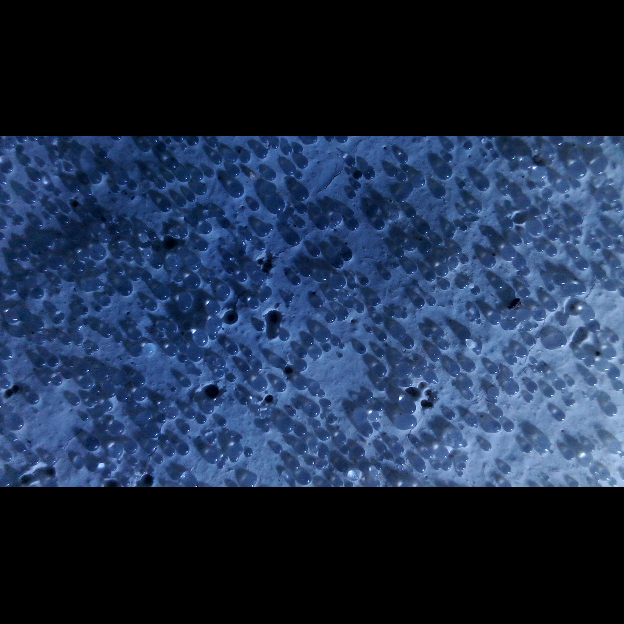GrassBeadSeg: (267, 197, 285, 214), (175, 293, 193, 310), (566, 298, 584, 315), (547, 331, 565, 348), (313, 265, 330, 282), (165, 254, 182, 271), (534, 436, 551, 453), (134, 409, 151, 426), (186, 346, 204, 362), (192, 330, 209, 346), (447, 431, 463, 447), (331, 274, 346, 289), (437, 164, 452, 179), (279, 418, 294, 433), (607, 439, 622, 454), (581, 307, 596, 322), (294, 187, 309, 201), (186, 255, 201, 269), (481, 254, 496, 268), (500, 246, 515, 260), (527, 221, 542, 235), (518, 157, 533, 171), (556, 180, 571, 194), (533, 166, 547, 181), (591, 160, 605, 175), (602, 346, 617, 360), (577, 452, 592, 466), (402, 415, 417, 429), (434, 446, 449, 460), (373, 364, 388, 378), (397, 362, 412, 376), (316, 328, 331, 342), (346, 468, 361, 482), (253, 377, 268, 391), (306, 402, 320, 417), (298, 470, 312, 485), (427, 348, 442, 362), (308, 345, 323, 359), (294, 376, 309, 390), (461, 358, 476, 372), (186, 274, 201, 288), (252, 270, 267, 284), (215, 285, 230, 299), (155, 286, 170, 300), (91, 246, 106, 260), (118, 282, 133, 296), (242, 473, 257, 487), (286, 232, 300, 246), (315, 216, 329, 230), (230, 184, 244, 198), (198, 221, 212, 235), (411, 174, 425, 188), (476, 177, 490, 191), (505, 381, 519, 395), (486, 386, 500, 400), (391, 326, 405, 340), (402, 400, 416, 414), (255, 223, 269, 237), (206, 301, 220, 315), (208, 317, 222, 331), (50, 256, 64, 270), (181, 471, 195, 485), (572, 163, 586, 177), (72, 455, 85, 469), (142, 343, 155, 356), (133, 374, 146, 387), (166, 406, 179, 419), (177, 442, 190, 455), (52, 311, 65, 324), (264, 168, 277, 181), (147, 425, 160, 438), (125, 441, 138, 454), (87, 438, 100, 451), (111, 422, 124, 435), (110, 444, 123, 457), (93, 458, 106, 471), (11, 417, 24, 430), (104, 385, 117, 398), (14, 325, 27, 338), (202, 401, 214, 415), (134, 388, 146, 401), (27, 392, 40, 404), (144, 441, 157, 453), (47, 355, 60, 367), (7, 311, 20, 323), (32, 287, 45, 299), (5, 283, 18, 295), (73, 262, 86, 274), (24, 192, 37, 204), (89, 172, 102, 184), (159, 200, 172, 212), (195, 183, 208, 195), (165, 158, 178, 170), (228, 165, 241, 177), (283, 163, 296, 175), (255, 146, 268, 158), (225, 151, 238, 163), (296, 157, 309, 169), (534, 308, 546, 321), (605, 404, 617, 417), (80, 376, 93, 388), (0, 348, 13, 360), (32, 319, 45, 331), (100, 325, 113, 337), (129, 345, 142, 357), (204, 431, 217, 443), (1, 161, 14, 173), (347, 219, 359, 231), (373, 218, 385, 230), (331, 257, 343, 269), (341, 249, 353, 261), (418, 223, 430, 235), (405, 207, 417, 219), (469, 201, 481, 213), (519, 197, 531, 209), (514, 258, 526, 270), (597, 360, 609, 372), (599, 469, 611, 481), (436, 264, 448, 276), (405, 262, 417, 274), (4, 137, 16, 149), (420, 241, 431, 253), (405, 239, 416, 251), (434, 187, 445, 199), (609, 367, 620, 379), (554, 379, 565, 391), (415, 461, 426, 473), (354, 446, 365, 458), (462, 378, 473, 390), (100, 232, 112, 243), (151, 258, 163, 269), (146, 300, 158, 311), (192, 170, 204, 181), (211, 153, 223, 164), (178, 171, 190, 182), (129, 270, 141, 281), (141, 271, 153, 282), (197, 240, 209, 251), (61, 334, 73, 345), (251, 362, 263, 373), (279, 330, 291, 341), (312, 297, 324, 308), (326, 290, 338, 301), (248, 299, 260, 310), (331, 213, 342, 224), (78, 250, 89, 261), (20, 250, 31, 261), (91, 279, 102, 290), (118, 173, 129, 184), (113, 265, 124, 276), (131, 329, 142, 340), (167, 345, 178, 356), (228, 343, 239, 354), (104, 414, 115, 425), (167, 323, 178, 334), (296, 360, 307, 371), (325, 312, 336, 323), (236, 272, 247, 283), (255, 241, 266, 252), (310, 246, 321, 257), (290, 275, 301, 286), (249, 200, 260, 211), (414, 297, 425, 308), (451, 244, 462, 255), (556, 275, 567, 286), (188, 136, 199, 147), (208, 136, 219, 147), (393, 444, 403, 456), (368, 410, 378, 422), (362, 425, 372, 437), (319, 429, 329, 441), (434, 328, 444, 340), (141, 248, 153, 258), (240, 291, 252, 301), (281, 145, 293, 155), (239, 152, 251, 162), (139, 141, 151, 151), (613, 380, 623, 391), (336, 433, 346, 444), (492, 409, 503, 419), (422, 450, 433, 460), (310, 420, 321, 430), (285, 436, 296, 446), (180, 424, 191, 434), (128, 456, 139, 466), (275, 382, 286, 392), (338, 309, 349, 319), (302, 267, 313, 277), (293, 143, 303, 154), (365, 169, 375, 180), (387, 166, 397, 177), (440, 279, 450, 290), (433, 234, 443, 245), (449, 257, 459, 268), (394, 248, 404, 259), (377, 331, 387, 342), (374, 314, 384, 325), (359, 275, 369, 286), (382, 270, 392, 281), (547, 299, 557, 310), (526, 336, 536, 347), (512, 235, 522, 246), (569, 248, 579, 259), (578, 260, 589, 270), (560, 233, 571, 243), (572, 227, 582, 238), (543, 218, 553, 229), (543, 188, 553, 199), (503, 219, 513, 230), (610, 333, 620, 344), (585, 356, 595, 367), (577, 350, 587, 361), (587, 376, 597, 387), (413, 367, 423, 378), (377, 380, 387, 391), (297, 347, 307, 358), (449, 364, 459, 375), (613, 226, 623, 237), (591, 241, 602, 251), (597, 270, 607, 281), (576, 284, 586, 295), (613, 201, 623, 212), (571, 179, 581, 190), (602, 238, 612, 249), (590, 321, 600, 332), (102, 401, 113, 411), (34, 358, 45, 368), (0, 379, 11, 389), (181, 378, 192, 388), (42, 240, 53, 250), (16, 238, 27, 248), (31, 172, 42, 182), (21, 157, 32, 167), (48, 205, 59, 215), (70, 183, 81, 193), (109, 225, 120, 235), (157, 399, 168, 409), (527, 383, 537, 393), (504, 421, 514, 431), (564, 450, 574, 460), (374, 401, 384, 411), (319, 449, 329, 459), (306, 456, 316, 466), (273, 444, 283, 454), (296, 427, 306, 437), (233, 444, 243, 454), (165, 447, 175, 457), (353, 170, 363, 180), (346, 156, 356, 166), (398, 153, 408, 163), (425, 271, 435, 281), (457, 278, 467, 288), (520, 288, 530, 298), (404, 338, 414, 348), (375, 347, 385, 357), (356, 344, 366, 354), (371, 295, 381, 305), (355, 303, 365, 313), (493, 279, 503, 289), (490, 314, 500, 324), (535, 240, 545, 250), (547, 246, 557, 256), (572, 215, 582, 225), (549, 230, 559, 240), (538, 362, 548, 372), (304, 335, 314, 345), (425, 372, 435, 382), (612, 259, 622, 269), (606, 281, 616, 291), (29, 455, 39, 465), (2, 451, 12, 461), (70, 396, 80, 406), (119, 392, 129, 402), (92, 386, 102, 396), (73, 337, 83, 347), (254, 321, 264, 331), (276, 359, 286, 369), (85, 397, 95, 407), (101, 296, 111, 306), (14, 216, 24, 226), (59, 215, 69, 225), (79, 207, 89, 217), (62, 204, 72, 214), (38, 263, 48, 273), (20, 271, 30, 281), (156, 179, 166, 189), (441, 461, 452, 470), (376, 444, 387, 453), (340, 446, 351, 455), (297, 445, 308, 454), (289, 461, 300, 470), (196, 415, 207, 424), (52, 376, 63, 385), (16, 443, 27, 452), (40, 377, 51, 386), (98, 425, 109, 434), (127, 401, 138, 410), (156, 414, 167, 423), (185, 409, 196, 418), (208, 331, 219, 340), (33, 219, 44, 228), (8, 254, 19, 263), (86, 196, 97, 205), (113, 250, 124, 259), (203, 273, 214, 282), (519, 347, 528, 357), (490, 364, 499, 374), (465, 391, 474, 401), (419, 358, 428, 368), (424, 328, 433, 338), (483, 441, 492, 451), (524, 443, 533, 453), (555, 412, 565, 421), (544, 388, 554, 397), (490, 423, 500, 432), (467, 417, 477, 426), (209, 454, 219, 463), (46, 456, 56, 465), (7, 434, 17, 443), (63, 369, 73, 378), (216, 359, 226, 368), (80, 365, 90, 374), (100, 372, 110, 381), (78, 306, 88, 315), (52, 277, 62, 286), (0, 194, 10, 203), (176, 197, 186, 206), (178, 228, 188, 237), (126, 251, 136, 260), (440, 341, 449, 350), (502, 465, 511, 474), (244, 448, 253, 457), (524, 394, 533, 403), (566, 378, 575, 387), (602, 394, 611, 403), (524, 322, 533, 331), (559, 318, 568, 327), (566, 398, 575, 407), (609, 478, 618, 487), (587, 443, 596, 452), (504, 370, 513, 379), (282, 471, 291, 480), (447, 410, 455, 420), (229, 454, 239, 462), (217, 418, 227, 426), (509, 356, 517, 365), (460, 454, 469, 462), (294, 401, 303, 409), (323, 399, 332, 407), (341, 290, 349, 298), (591, 466, 599, 474), (373, 423, 381, 431), (327, 415, 335, 423), (365, 392, 373, 400), (359, 399, 367, 407), (522, 268, 530, 276), (188, 194, 196, 202), (218, 210, 226, 218), (246, 233, 254, 241), (346, 209, 354, 217), (103, 470, 111, 478), (472, 286, 479, 295), (432, 463, 441, 470), (404, 379, 413, 386), (396, 458, 405, 465), (428, 298, 435, 306), (401, 311, 408, 319), (388, 310, 395, 318), (457, 307, 464, 315), (458, 463, 466, 470), (411, 437, 419, 444), (288, 409, 296, 416), (228, 375, 236, 382), (216, 370, 224, 377), (245, 350, 253, 357), (179, 355, 187, 362), (323, 344, 330, 352), (332, 338, 340, 345), (311, 442, 319, 449), (460, 224, 467, 232), (523, 238, 531, 245), (158, 323, 165, 331), (137, 259, 145, 266), (167, 175, 175, 182), (130, 183, 138, 190), (113, 186, 120, 194), (417, 343, 425, 350), (225, 254, 233, 261), (206, 171, 214, 178), (65, 165, 73, 172), (38, 160, 46, 167), (101, 167, 109, 174), (31, 184, 39, 191), (151, 136, 159, 143), (150, 175, 158, 182), (271, 142, 279, 149), (295, 172, 303, 179), (312, 207, 320, 214), (297, 221, 305, 228), (349, 282, 357, 289), (226, 266, 234, 273), (318, 391, 325, 398), (378, 455, 385, 462), (241, 398, 248, 405), (221, 455, 228, 462), (110, 463, 117, 470), (123, 480, 130, 487), (242, 365, 249, 372), (246, 394, 253, 401), (317, 462, 324, 469), (285, 296, 292, 303), (461, 257, 468, 264), (446, 233, 453, 240), (448, 226, 455, 233), (175, 274, 182, 281), (157, 333, 164, 340), (149, 233, 156, 240), (141, 226, 148, 233), (55, 189, 62, 196), (51, 146, 58, 153), (100, 152, 107, 159), (158, 144, 165, 151), (144, 168, 151, 175), (262, 136, 269, 143), (348, 192, 355, 199), (354, 183, 361, 190), (299, 206, 306, 213), (398, 195, 405, 202), (459, 210, 467, 216), (458, 182, 466, 188), (480, 152, 488, 158), (532, 145, 540, 151), (448, 145, 456, 151), (584, 139, 592, 145), (596, 140, 604, 146), (541, 208, 549, 214), (312, 389, 318, 396), (376, 463, 382, 470), (386, 438, 392, 445), (393, 436, 399, 443), (336, 480, 342, 487), (328, 464, 334, 471), (264, 426, 270, 433), (227, 432, 233, 439), (218, 462, 225, 468), (236, 434, 242, 441), (215, 399, 221, 406), (320, 412, 326, 419), (148, 467, 154, 474), (140, 467, 146, 474), (171, 386, 177, 393), (196, 369, 202, 376), (399, 175, 406, 181), (502, 190, 509, 196), (529, 184, 536, 190), (538, 182, 545, 188), (502, 182, 509, 188), (492, 153, 499, 159), (486, 144, 493, 150), (465, 144, 472, 150), (445, 156, 452, 162), (573, 240, 580, 246), (532, 212, 539, 218), (545, 152, 552, 158), (374, 480, 380, 487), (253, 406, 260, 412), (157, 457, 163, 464), (162, 436, 168, 443), (387, 454, 393, 460), (532, 359, 538, 365), (372, 470, 378, 476), (82, 414, 88, 420), (34, 408, 40, 414), (93, 345, 99, 351), (87, 349, 93, 355), (85, 343, 91, 349), (50, 335, 56, 341), (39, 339, 45, 345), (117, 337, 123, 343), (96, 306, 102, 312), (109, 290, 115, 296), (90, 261, 96, 267), (140, 304, 146, 310), (45, 214, 51, 220), (366, 327, 372, 332), (462, 441, 467, 447), (458, 471, 463, 477), (78, 299, 84, 304), (330, 224, 336, 229), (519, 329, 524, 334), (477, 319, 482, 324), (470, 317, 475, 322), (370, 308, 375, 313), (340, 344, 345, 349), (338, 354, 343, 359), (476, 350, 481, 355), (534, 323, 538, 328), (510, 315, 514, 320), (512, 325, 516, 329)
